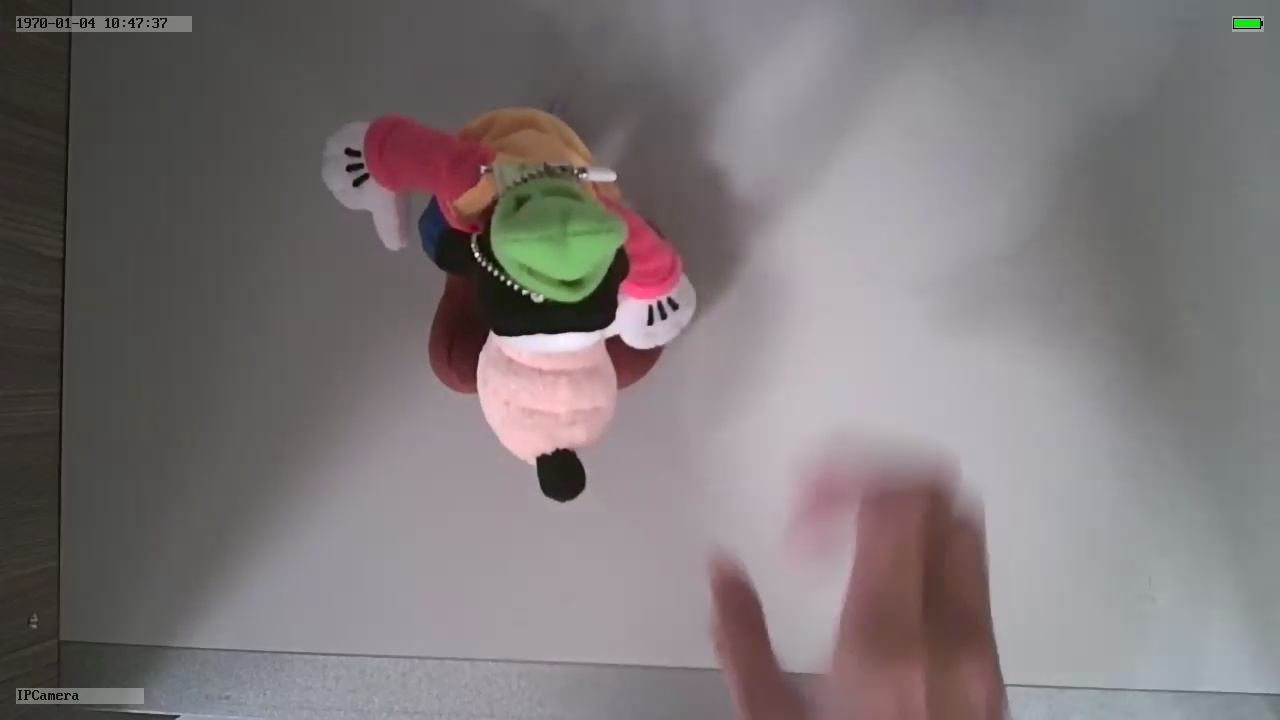goofy: (315, 96, 698, 504)
